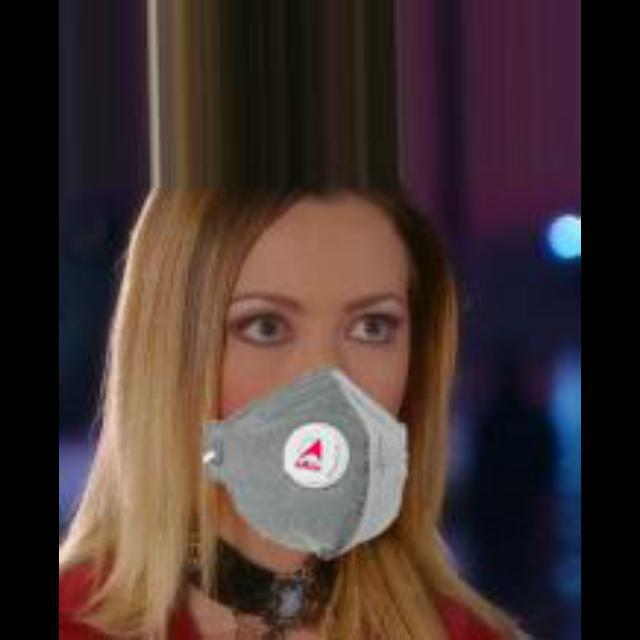suspicion: (152, 174, 476, 548)
